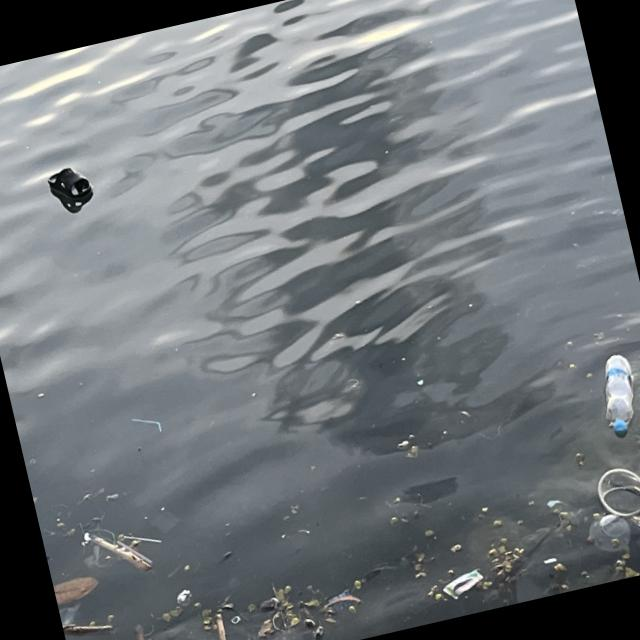plastic bottle: (595, 352, 640, 436)
